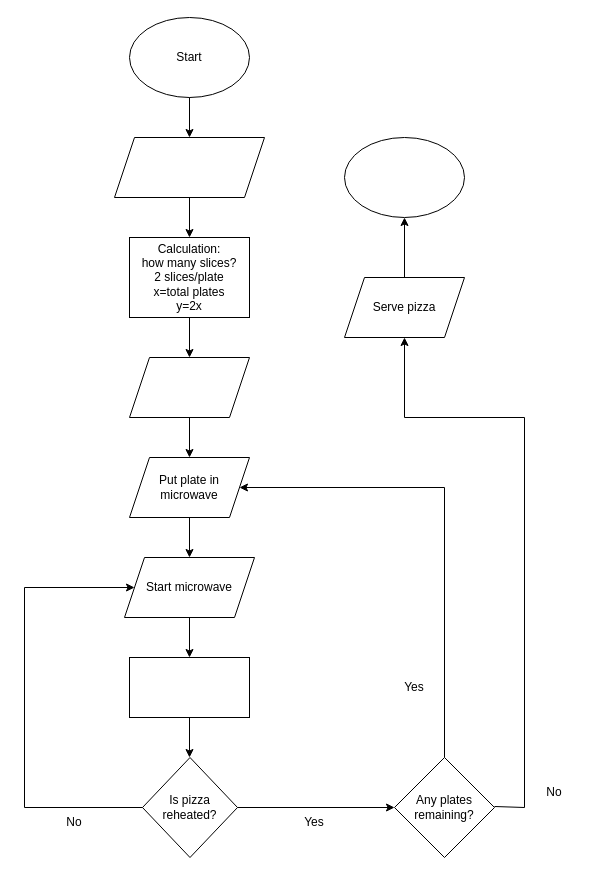
Image size: 602x875. Some labels were removed from this diagram. Each missing label, with the centre of its shape:
"End" belongs at (404,177).
"Place slices on plates" belongs at (189,387).
"Question: how much microwave pizza?" belongs at (189,167).
"Reading: pizza temperature" belongs at (189,687).
